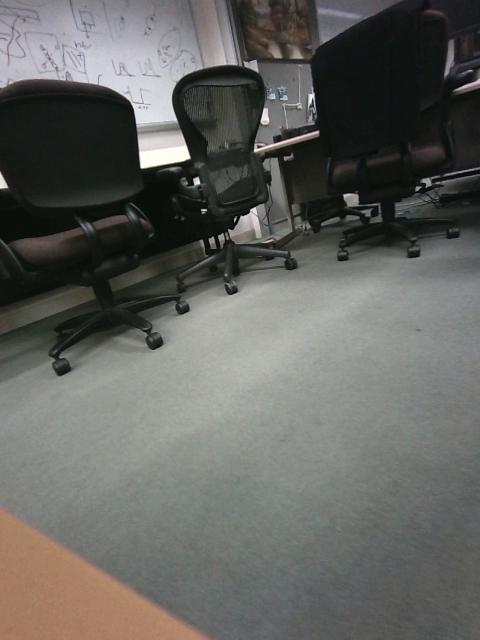block: (361, 448, 453, 578)
